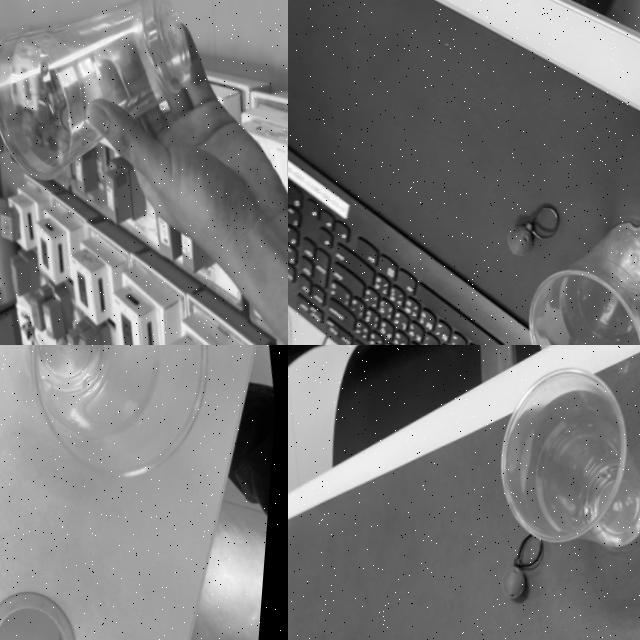glass: (0, 0, 217, 196), (1, 345, 247, 497), (474, 345, 640, 565), (507, 198, 640, 345)
